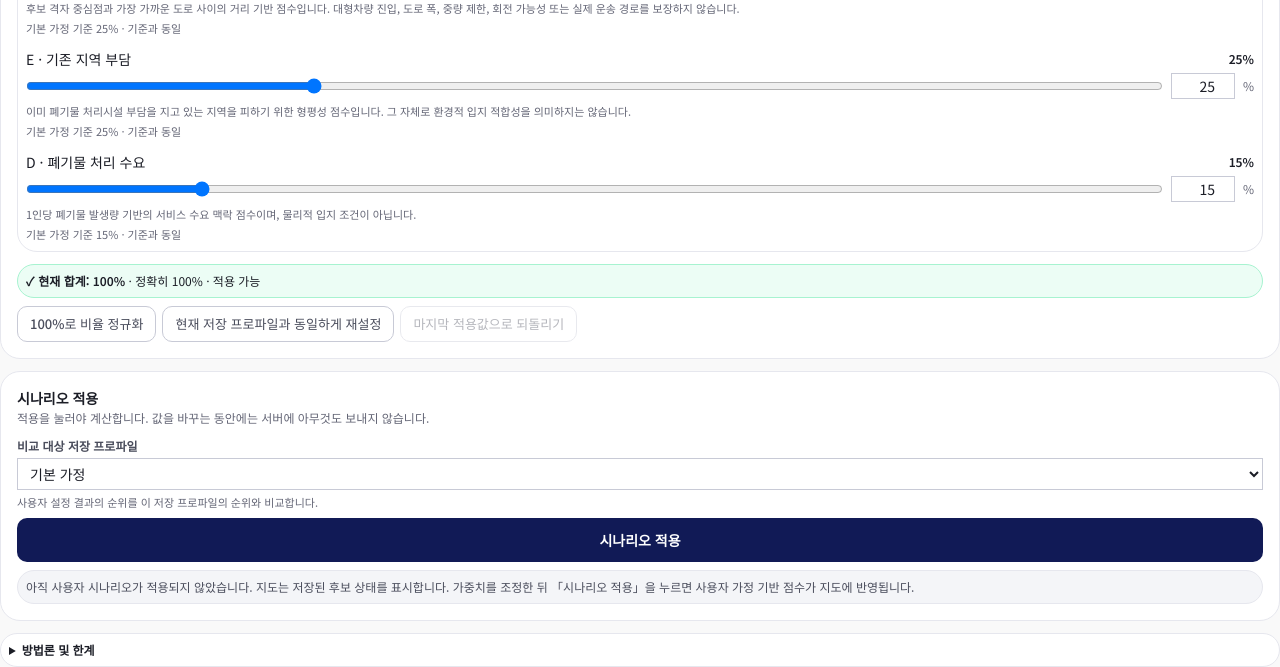
Scenario: SuitabilityScenarioLab › sends canonical decimal strings on explicit apply (one request)
(page scrolled)
Click the button with test id "scenario-apply" at {"x": 640, "y": 540}, box [17,518,1263,562]
(page scrolled)
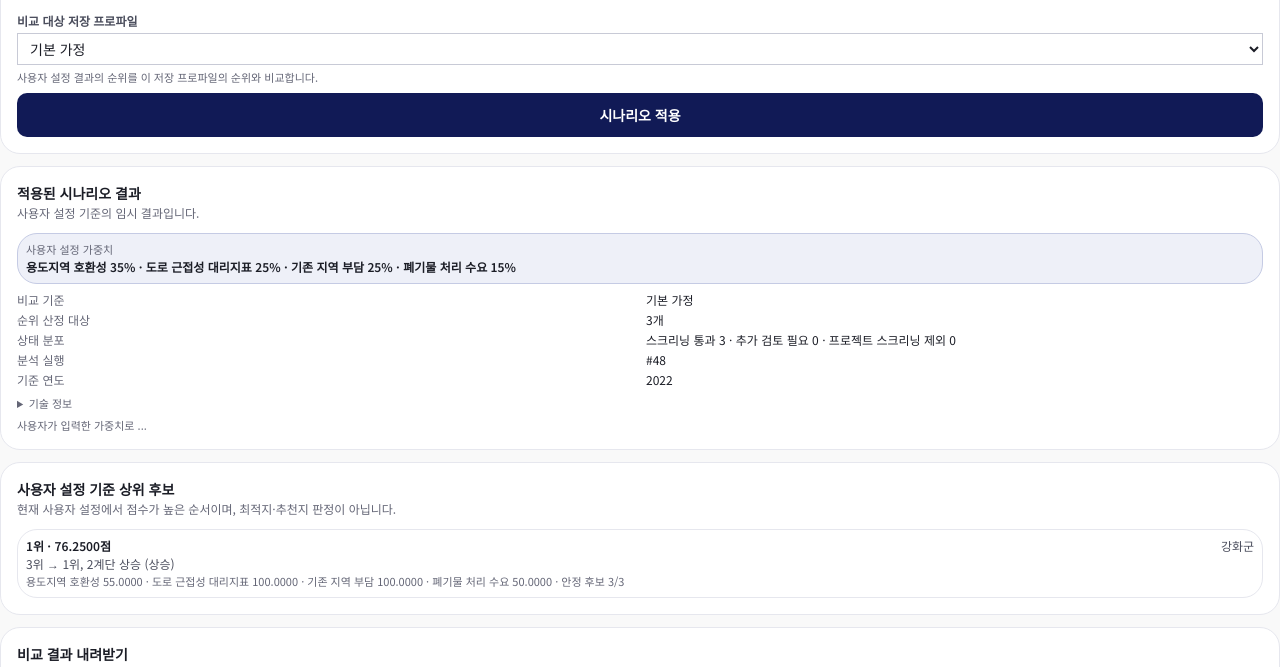
Now the element with test id "scenario-summary" is shown, box [0,166,1279,450]
